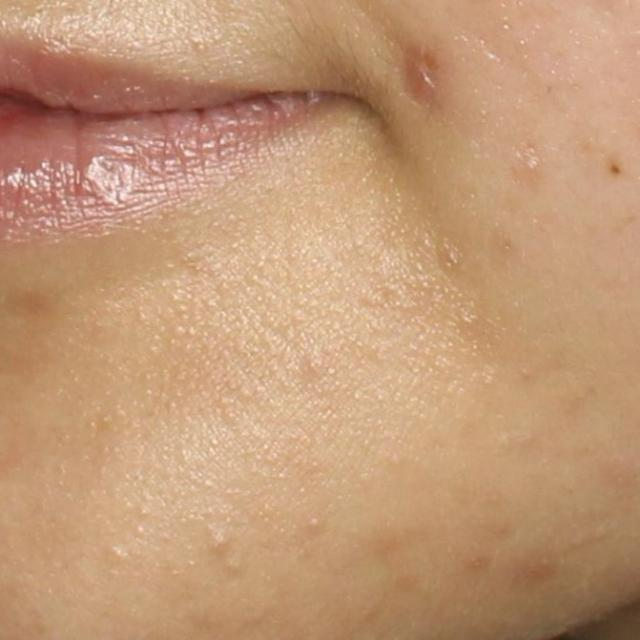blackhead: (610, 165, 619, 175)
